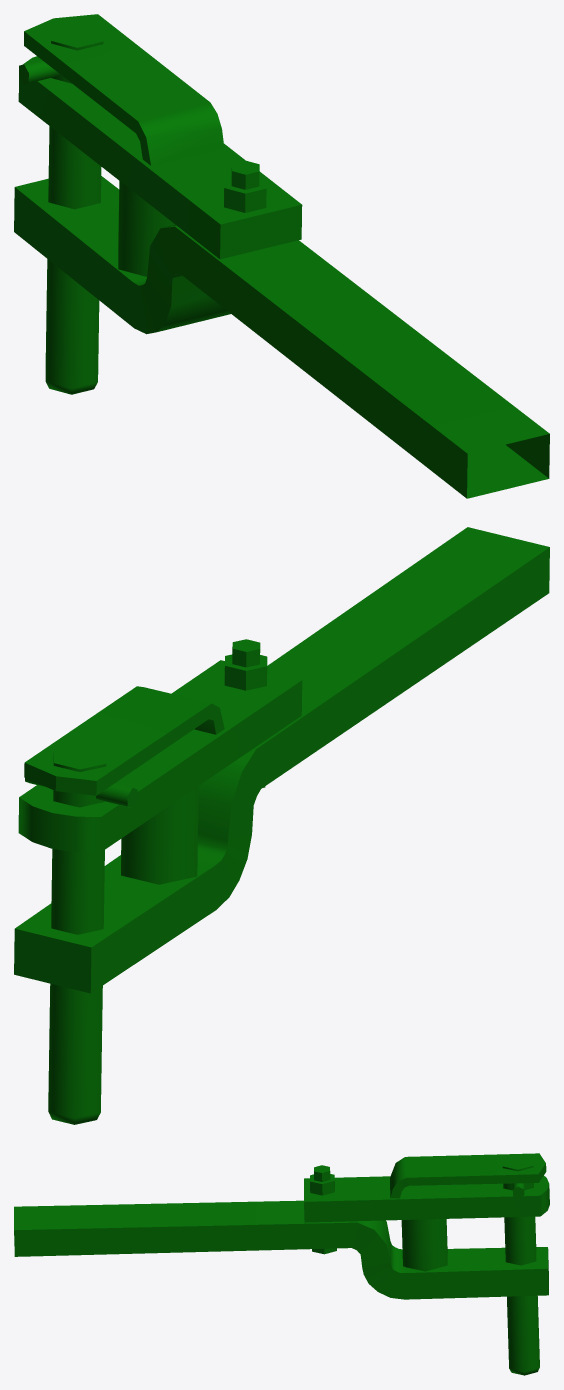
Rendered from braco.gltf.
3 renders of one model, top to bottom at view 1: azimuth 30°, elevation 25°; view 2: azimuth 150°, elevation 25°; view 3: azimuth 270°, elevation 25°, orthographic. The views are drawn at different scales.
Visible parts, largest first — view 1: 5060e.053; view 2: 5060e.053; view 3: 5060e.053.
Part boxes in pixels (left/top/right/bottom): 5060e.053: left=14, top=14, right=549, bottom=498; 5060e.053: left=14, top=527, right=549, bottom=1124; 5060e.053: left=14, top=1153, right=549, bottom=1375.
Bounding box in the file's own units: 7.95 × 26.45 × 61.33.
